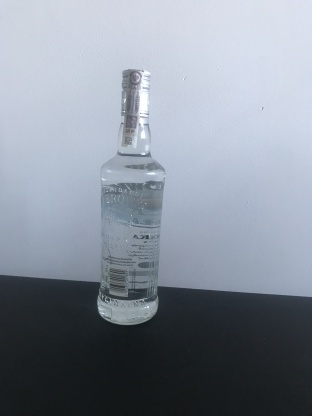nakretka: (119, 65, 152, 120)
